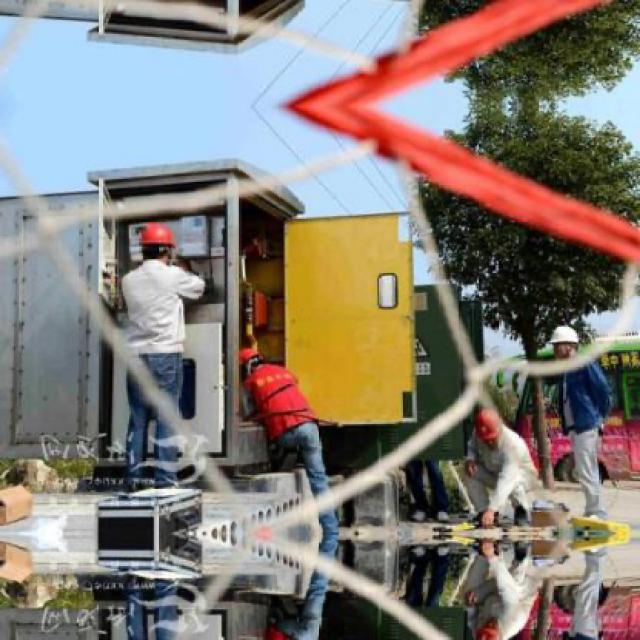helmet: (134, 224, 178, 265), (472, 407, 510, 450), (546, 324, 582, 361), (232, 345, 270, 378), (471, 617, 509, 638)
